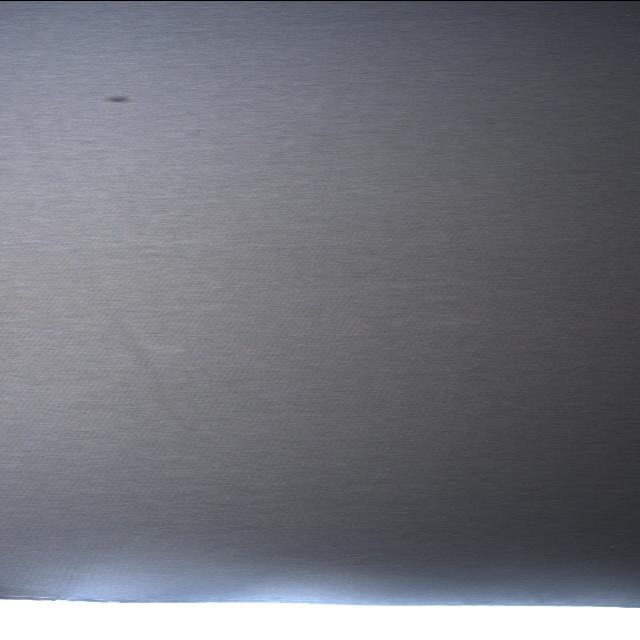crease: (88, 297, 242, 452)
